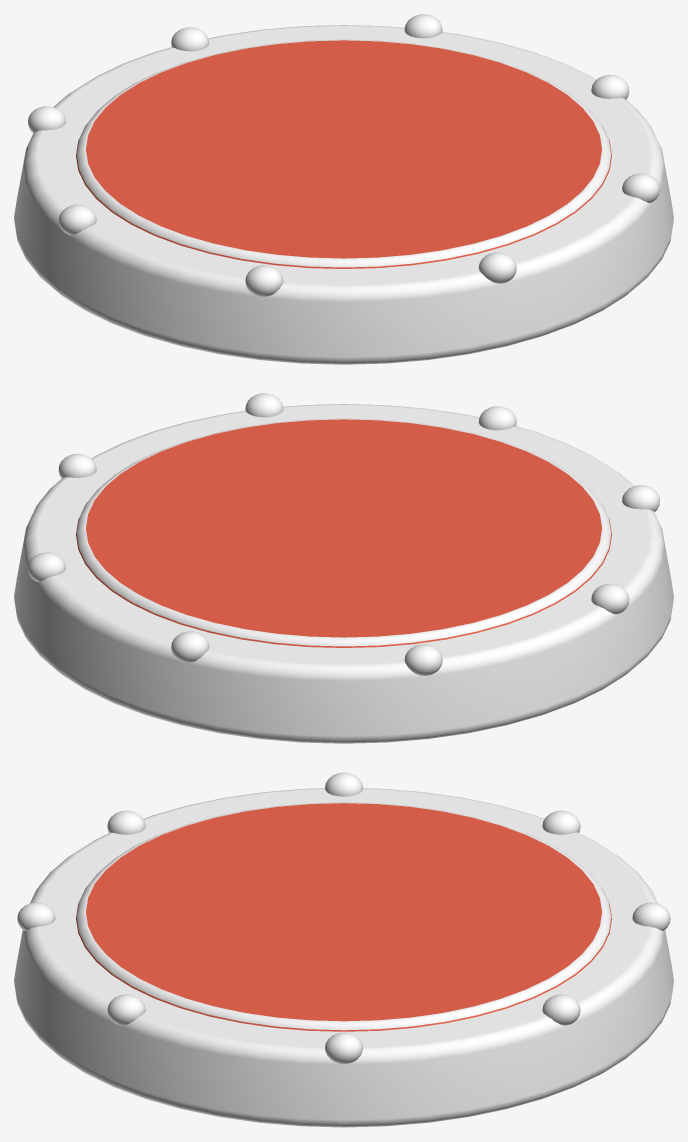
File: WM_PadBoss.fbx
3 views of the same model, one above another, from view 1: azimuth 30°, elevation 25°; view 2: azimuth 150°, elevation 25°; view 3: azimuth 270°, elevation 25° (orthographic).
Parts seen in each view (by area): view 1: WM_PadBoss; view 2: WM_PadBoss; view 3: WM_PadBoss.
Boxes of the visible parts, x1,y1,x2,y2 form: WM_PadBoss: (14,14,673,364); WM_PadBoss: (14,393,673,743); WM_PadBoss: (14,772,673,1127).
Bounding box in the file's own units: 1.89 × 0.284 × 1.89.
